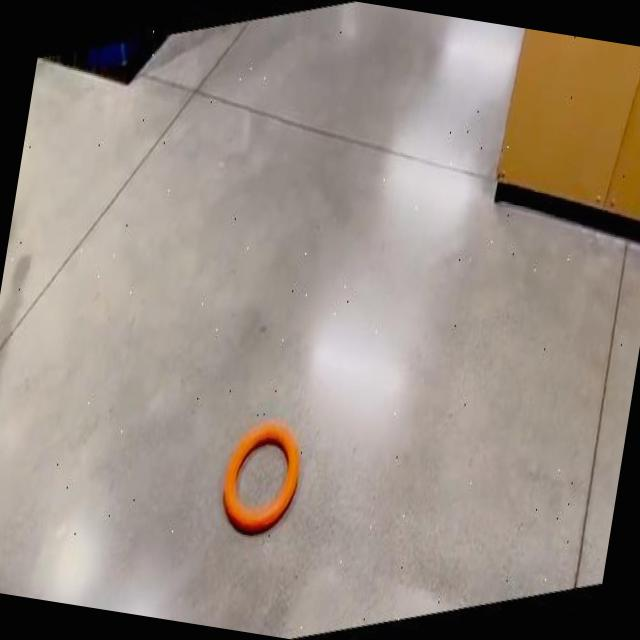note: (224, 419, 298, 531)
